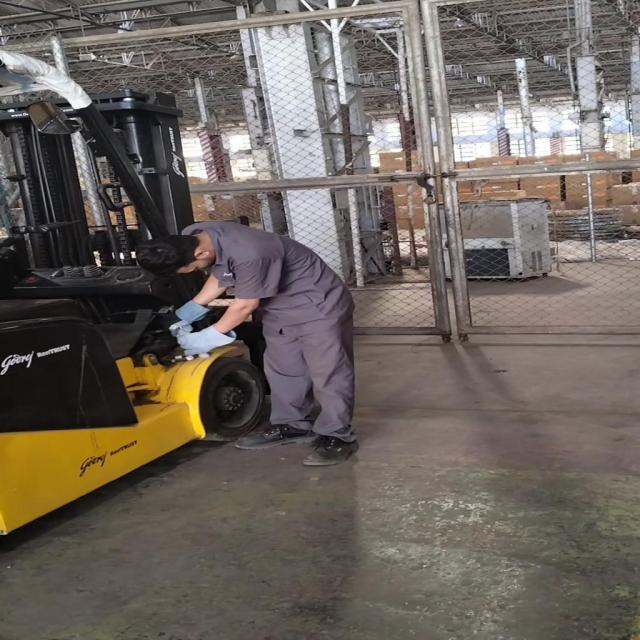Gloves-Detection: (180, 327, 237, 360), (154, 297, 197, 340)
